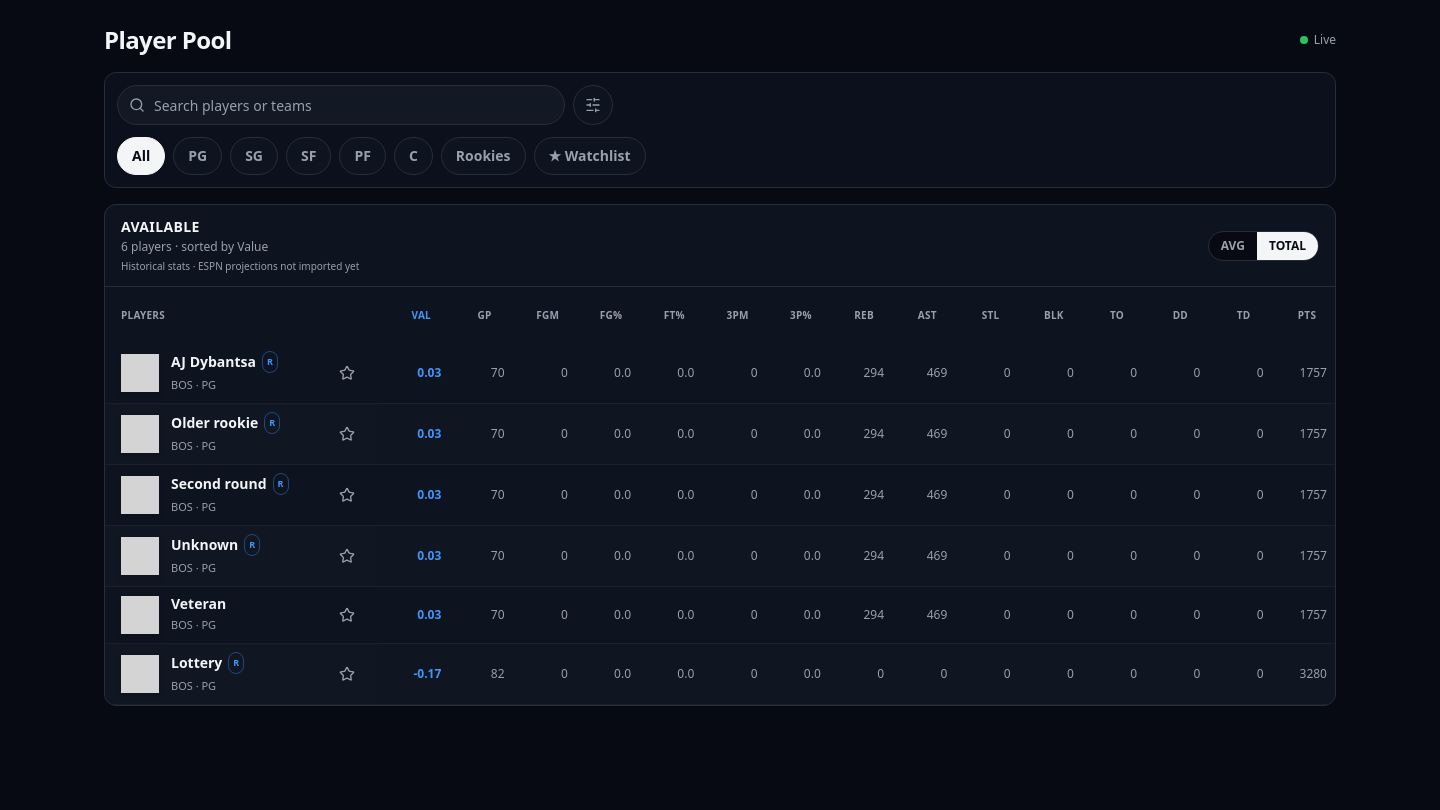
it: PlayerPoolPage › defaults rookies to their current draft order, keeps unknowns last, and permits stat sorting
Click the button "Rookies" at x=483, y=156, box [441,137,526,175]
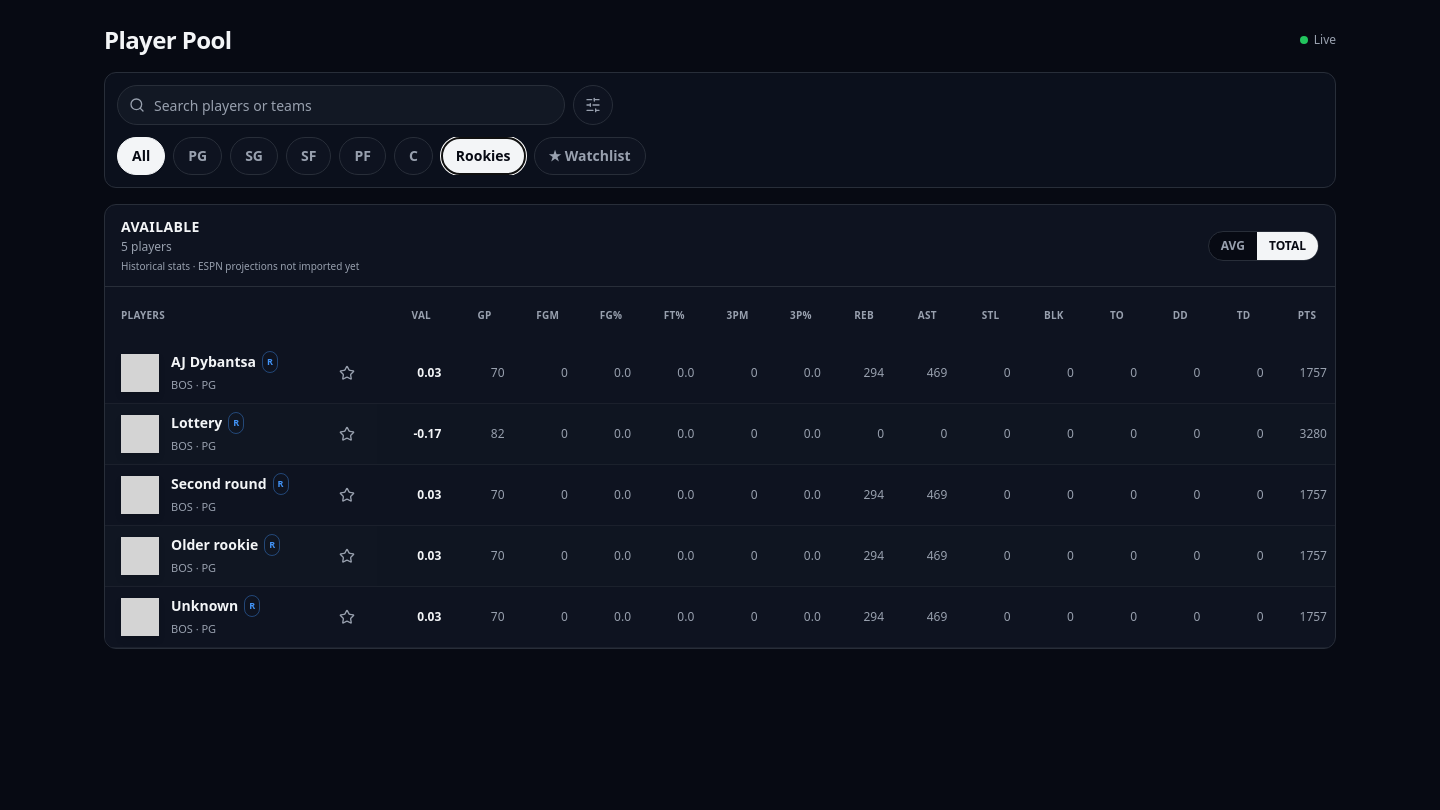
Expected: the row that starts with "AJ Dybantsa" is shown, [171,352,256,371]
Expected: the text "Veteran" is gone
Expected: the text "sorted by" is gone
Click the button "PTS" at x=1307, y=315, box [1287,295,1327,335]
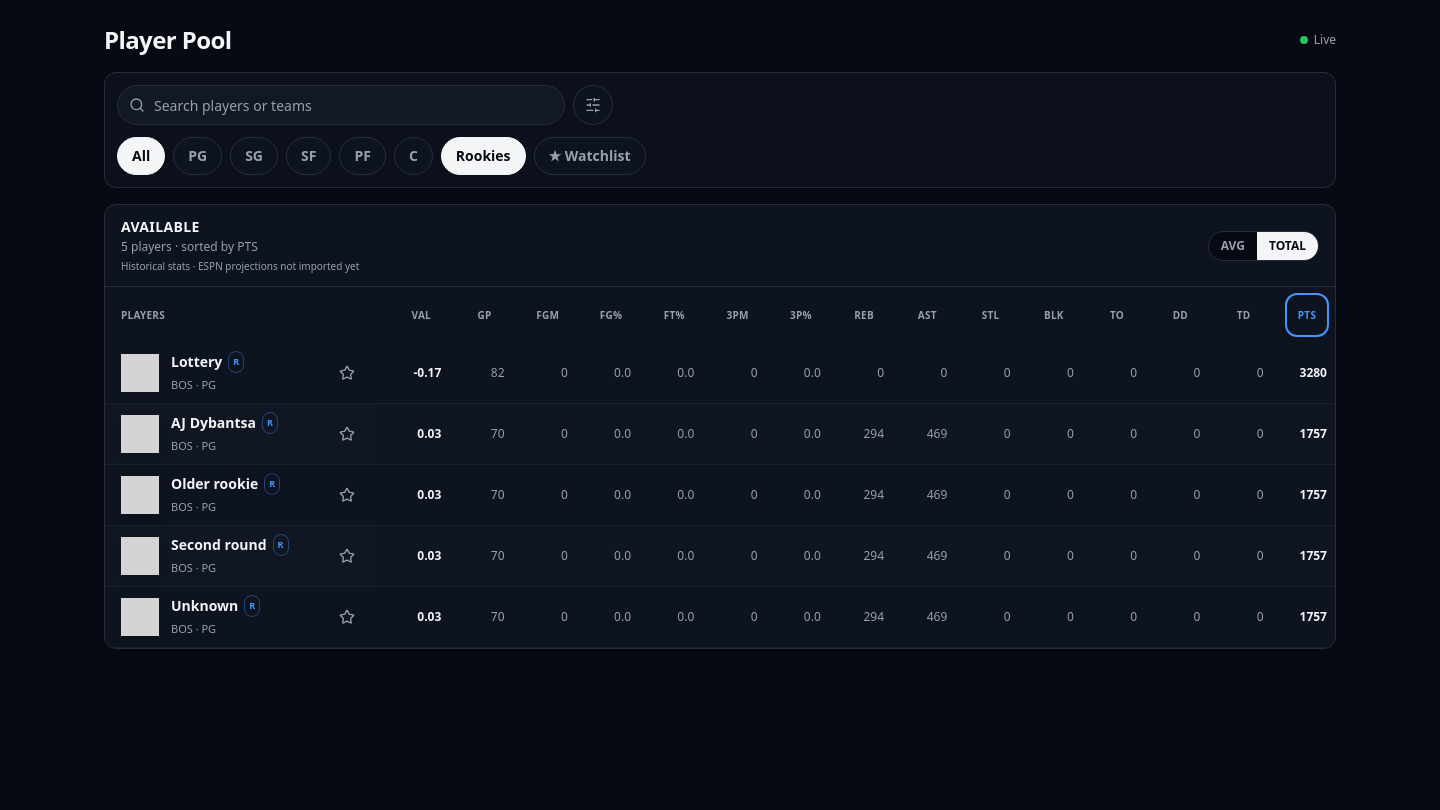
Expected: the row that starts with "Lottery" is shown, [171,352,222,371]
Click the button "Rookies" at x=483, y=156, box [441,137,526,175]
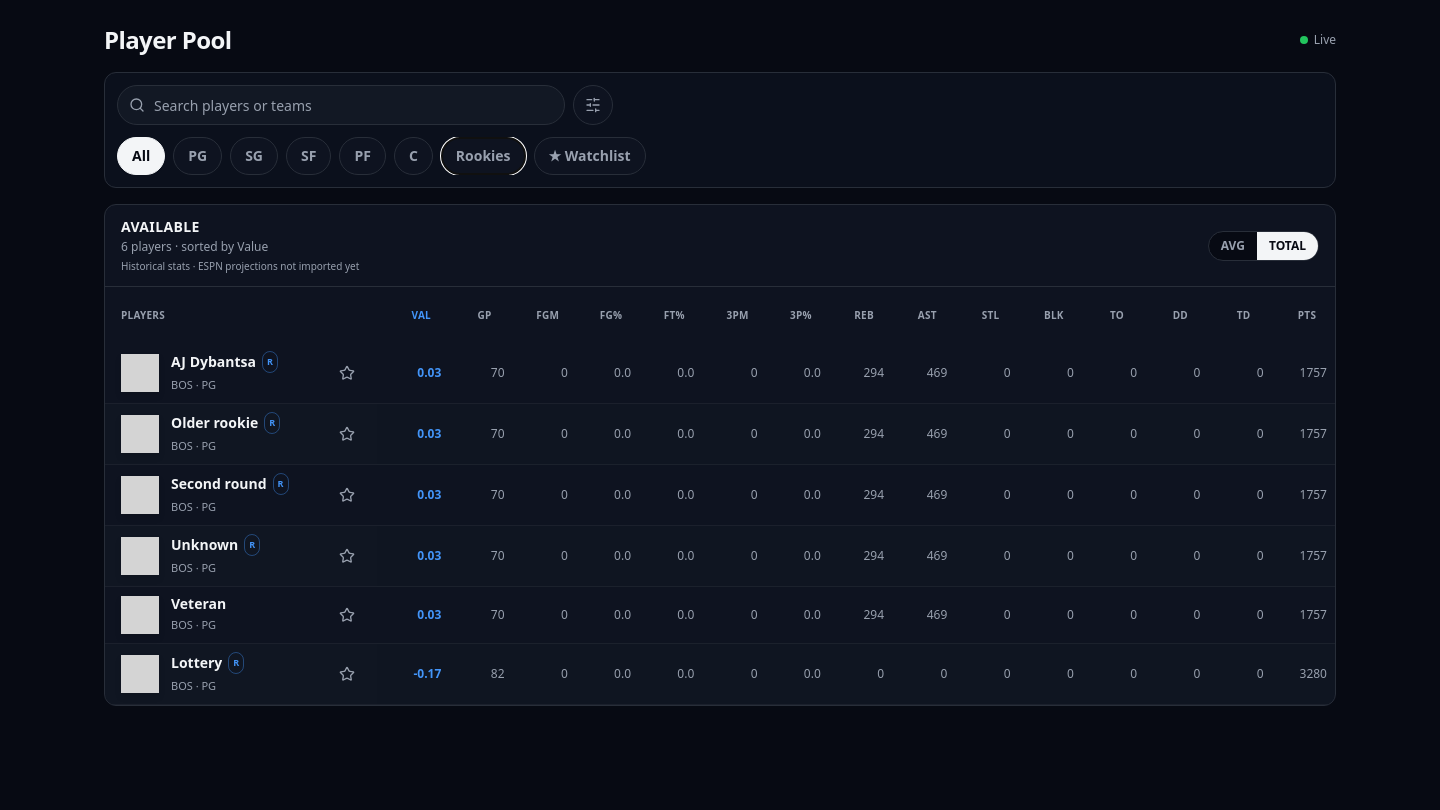
Expected: the text "6 players · sorted by Value" is shown, [121,238,268,255]
Expected: the text "Veteran" is shown, [171,595,226,612]
